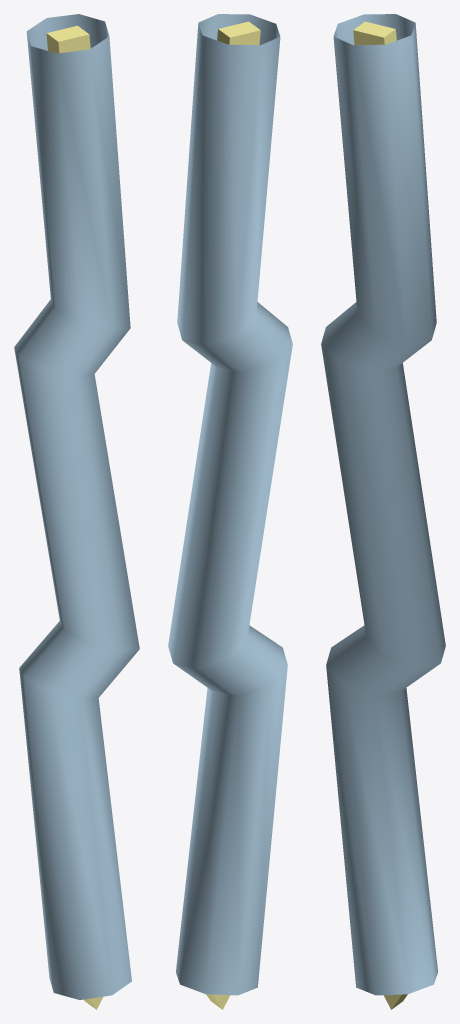
File: Zap.fbx
3 renders of one model, left to right at view 1: azimuth 30°, elevation 25°; view 2: azimuth 210°, elevation 25°; view 3: azimuth 330°, elevation 25°, orthographic.
Visible parts, largest first — view 1: Zap_Glow, Zap_Bolt; view 2: Zap_Glow, Zap_Bolt; view 3: Zap_Glow, Zap_Bolt.
Part boxes in pixels (bbox=[...]): Zap_Glow: bbox=[14, 14, 139, 999]; Zap_Bolt: bbox=[46, 25, 103, 1009]; Zap_Glow: bbox=[168, 14, 292, 995]; Zap_Bolt: bbox=[206, 21, 260, 1009]; Zap_Glow: bbox=[321, 14, 445, 995]; Zap_Bolt: bbox=[353, 21, 407, 1009].
Bounding box in the file's own units: 78.56 × 635 × 50.4.
